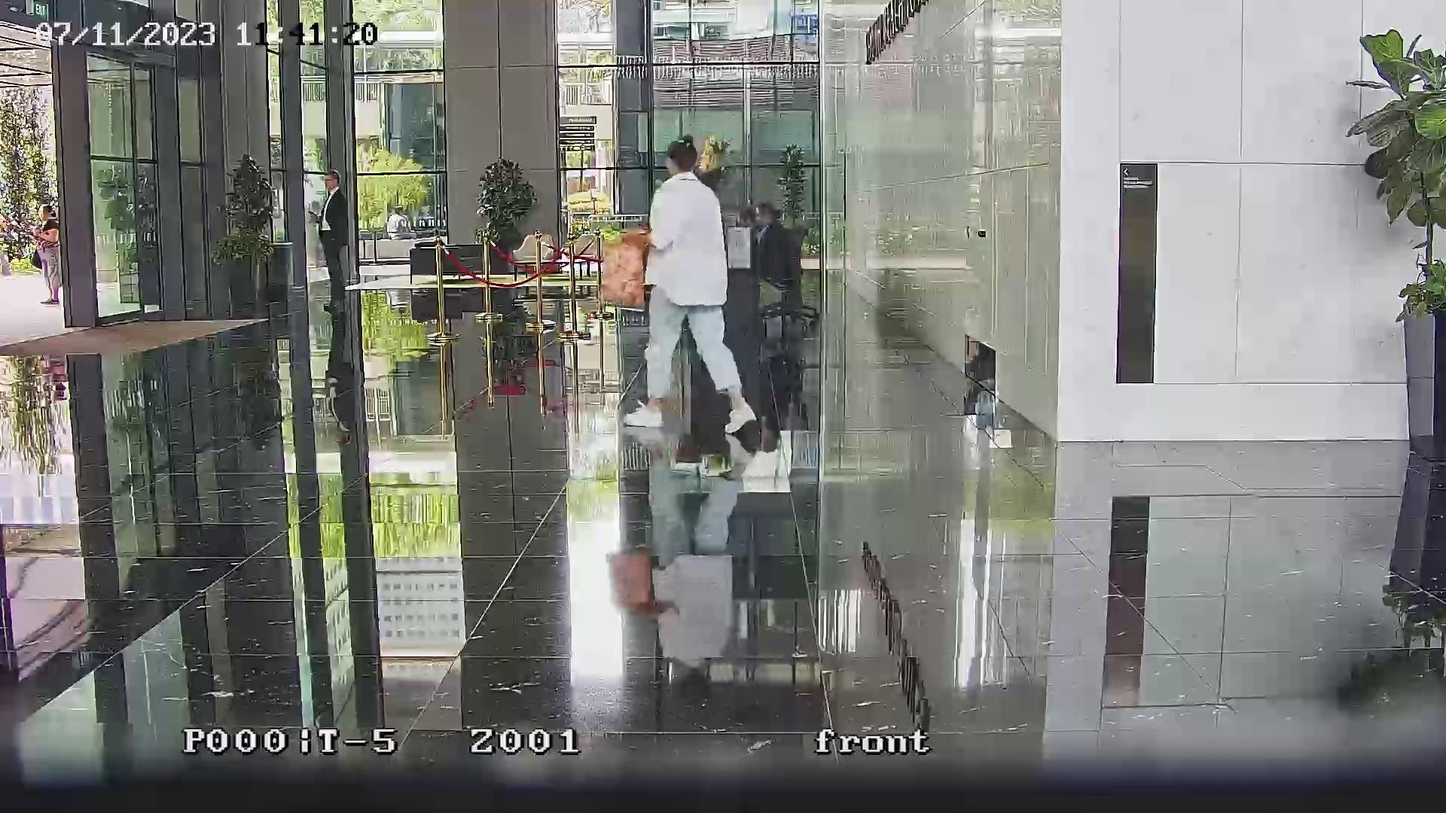person: (630, 136, 758, 437), (312, 169, 348, 312), (753, 201, 789, 286), (31, 206, 60, 304), (388, 205, 415, 239)
